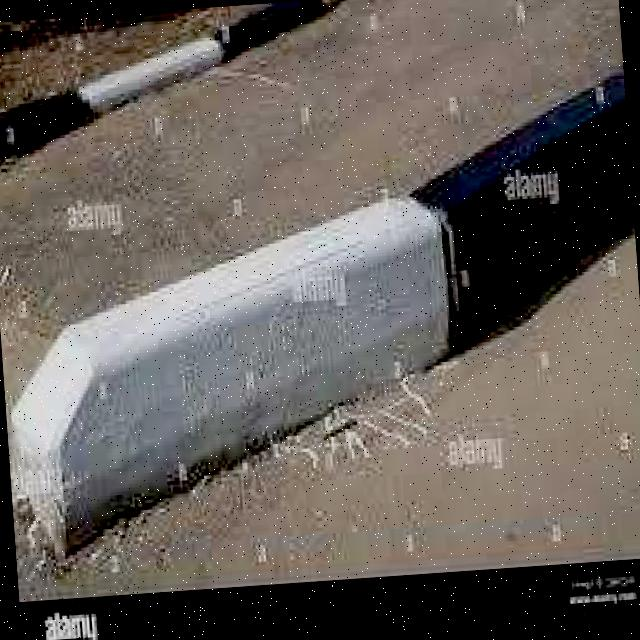curb: (9, 242, 429, 553), (350, 83, 640, 380), (1, 53, 171, 169), (172, 1, 369, 76)
